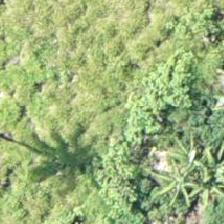Kelapa_Sawit: (135, 135, 223, 223)
